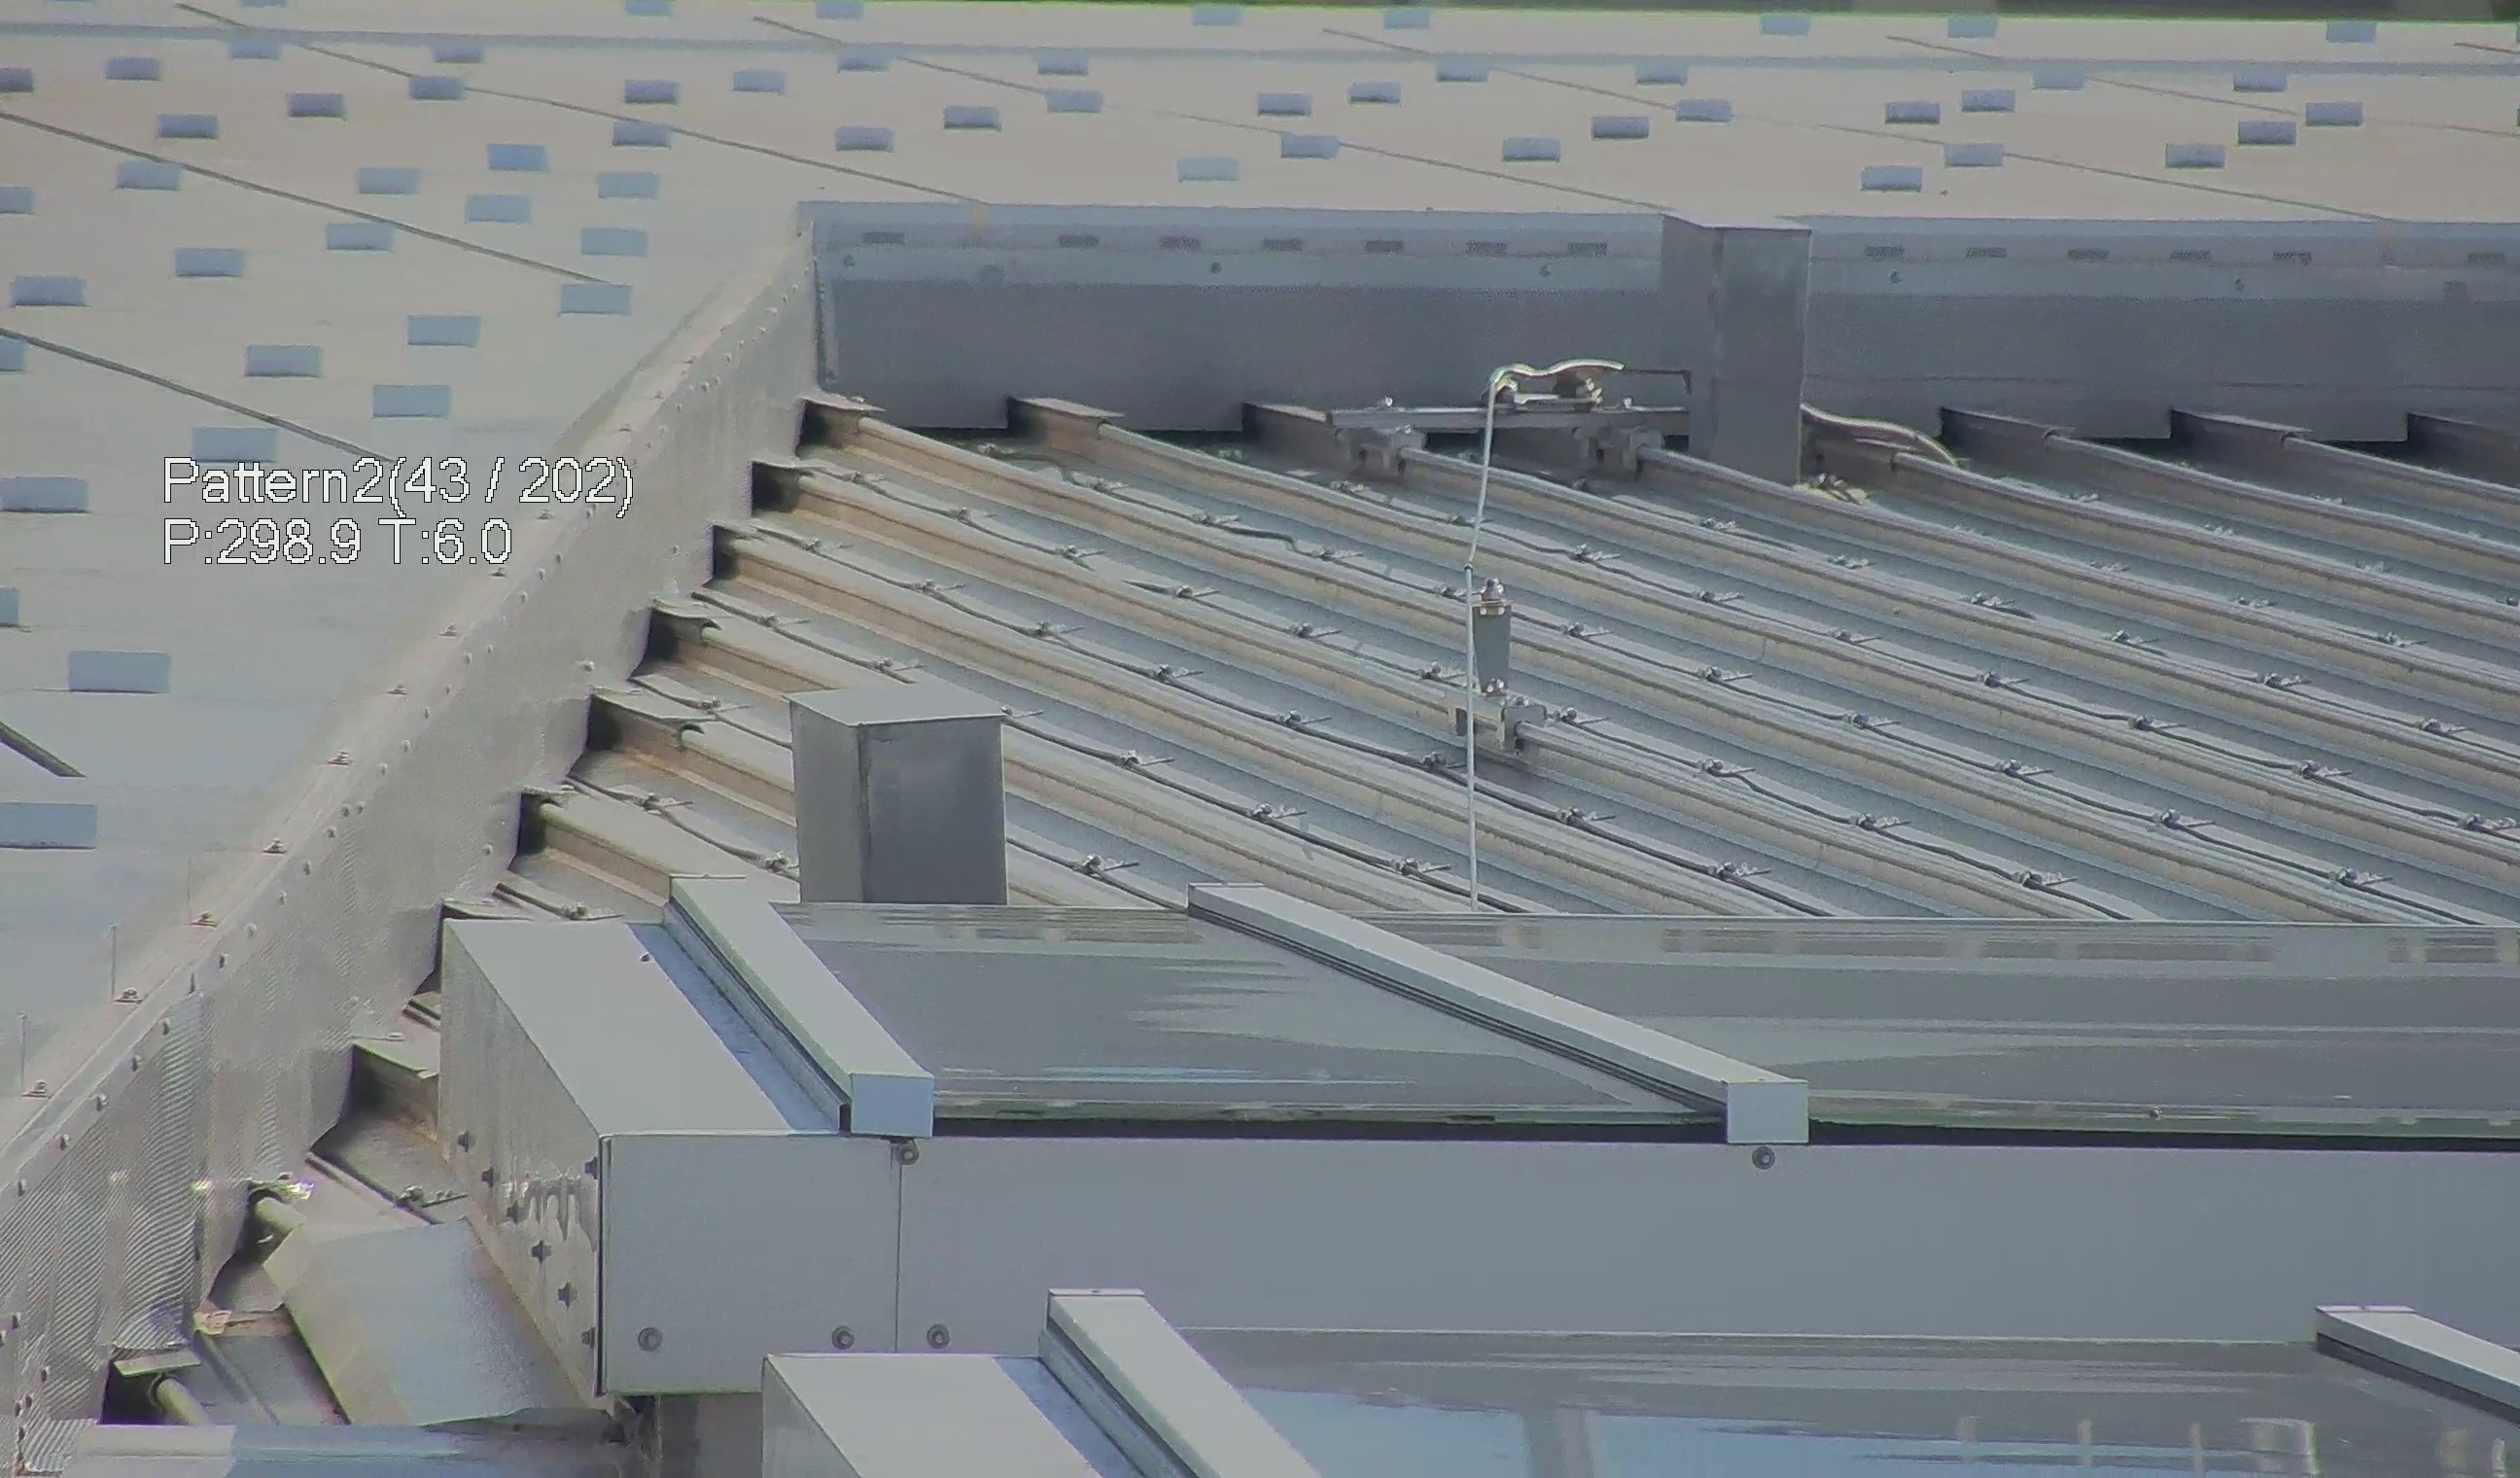Other: (186, 1163, 313, 1332)
